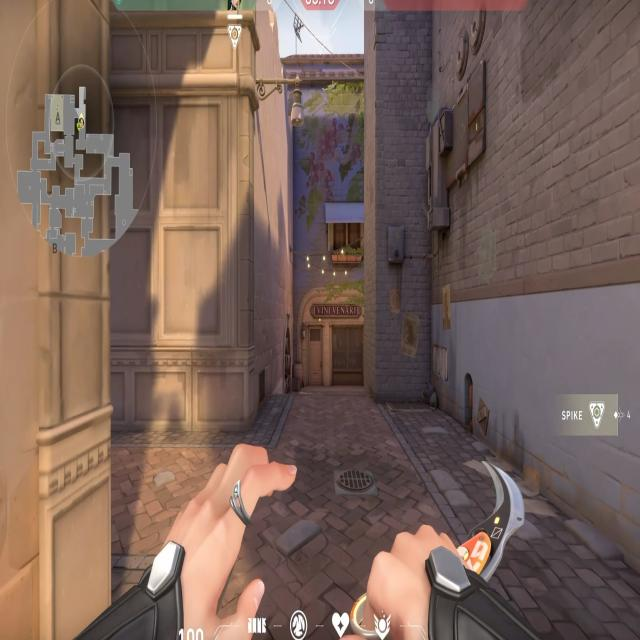Wine: (307, 287, 438, 399)
